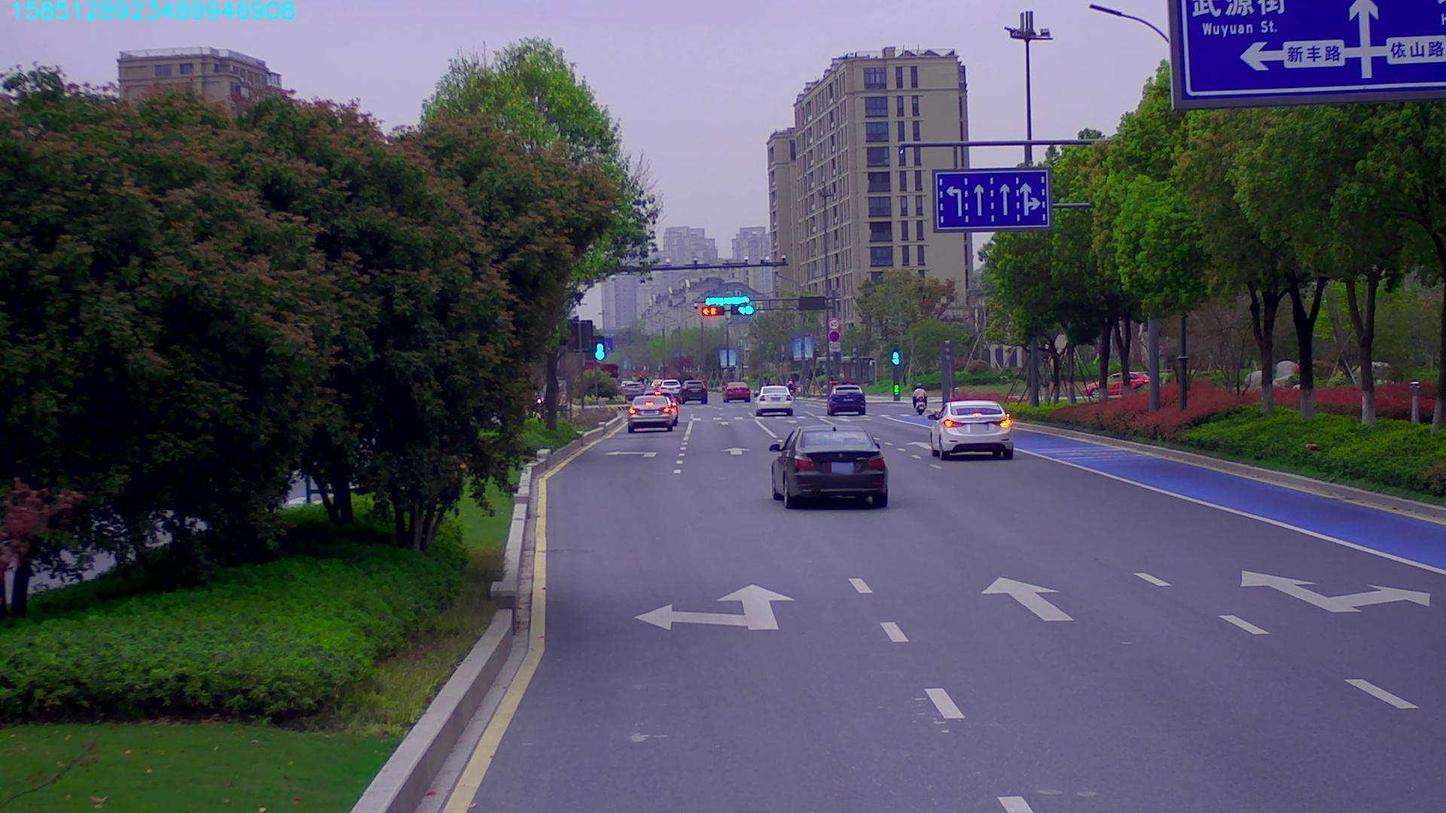green: (731, 306, 752, 319)
red: (704, 306, 715, 315)
wait_on: (700, 291, 749, 309)
